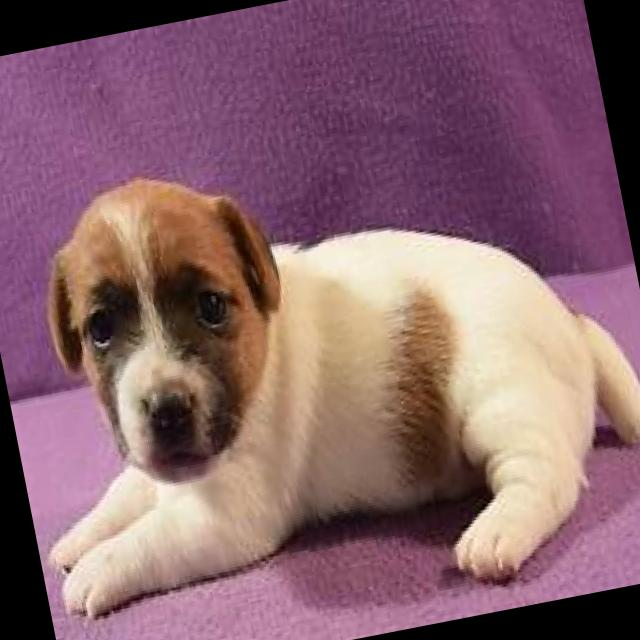animal: (0, 85, 640, 640)
